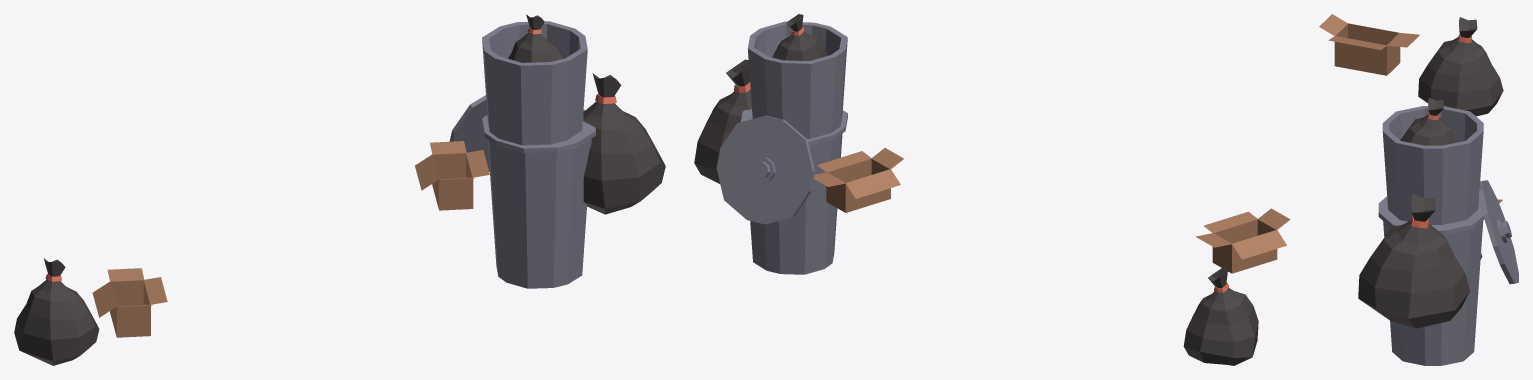
The model's file is Residue.fbx.
3 views of the same model, side by side, from view 1: azimuth 30°, elevation 25°; view 2: azimuth 150°, elevation 25°; view 3: azimuth 270°, elevation 25° (orthographic). The views are drawn at different scales.
Visible parts, largest first — view 1: Cube, Cube.001, Saco de lixo.002, Saco de lixo.003, Cube.002, Cube.003, Saco de lixo.001; view 2: Cube.001, Cube, Saco de lixo.003, Cube.003, Cube.002, Saco de lixo.002, Saco de lixo.001; view 3: Cube.001, Saco de lixo.002, Cube, Saco de lixo.003, Cube.003, Saco de lixo.001.
Boxes of the visible parts, x1,y1,x2,y2 form: Cube: (482,110,595,288); Cube.001: (449,21,587,171); Saco de lixo.002: (583,73,665,214); Saco de lixo.003: (14,258,99,365); Cube.002: (415,141,489,210); Cube.003: (92,268,167,337); Saco de lixo.001: (508,14,564,62); Cube.001: (716,21,847,224); Cube: (741,109,847,274); Saco de lixo.003: (1183,267,1258,365); Cube.003: (1196,208,1290,273); Cube.002: (813,148,903,212); Saco de lixo.002: (694,59,751,183); Saco de lixo.001: (772,14,827,60); Cube.001: (1382,106,1518,284); Saco de lixo.002: (1358,194,1470,328); Cube: (1378,196,1484,365); Saco de lixo.003: (1418,17,1503,116); Cube.003: (1319,14,1419,75); Saco de lixo.001: (1400,98,1458,145).
Size of the model in its own units: 834 by 332 by 244.
